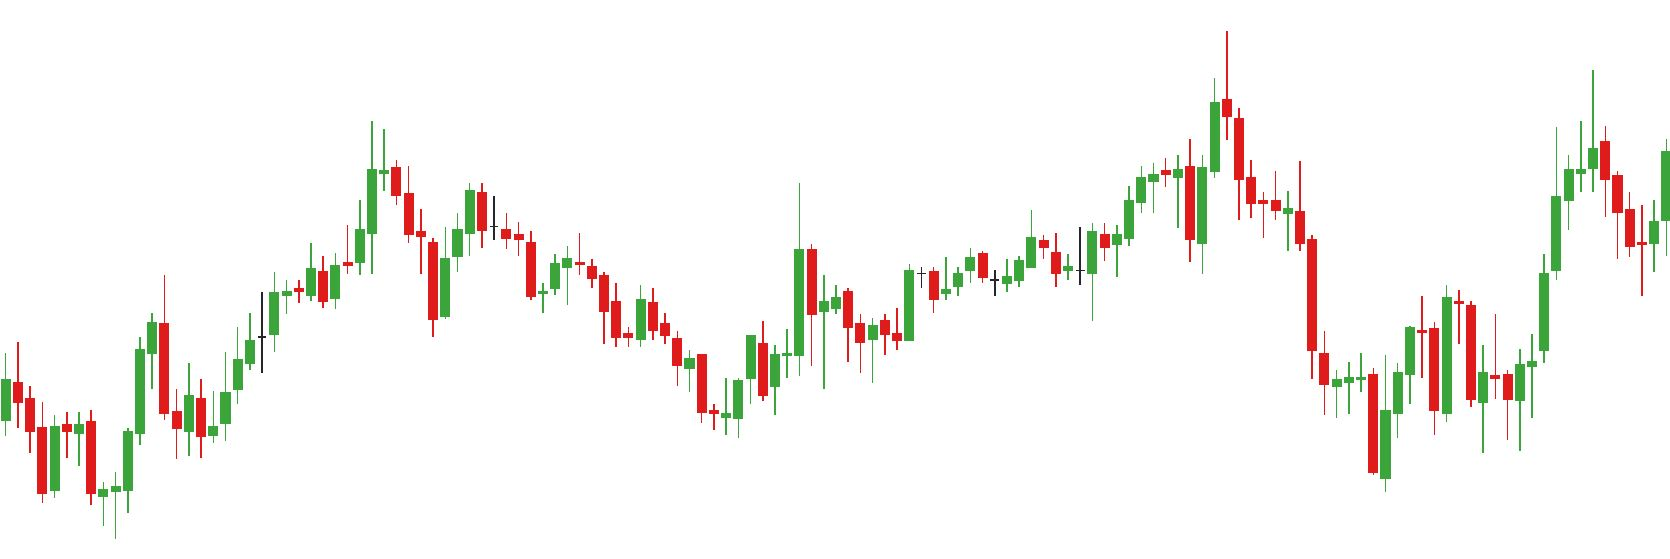buy: (304, 201, 451, 343), (37, 412, 111, 543), (1426, 316, 1491, 457)
